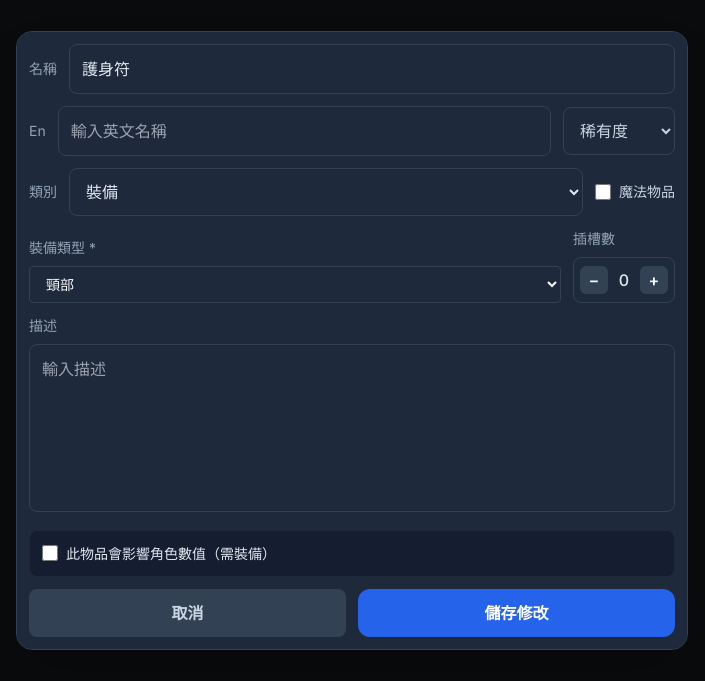
CharacterItemEditModal - applies_unequipped 文案與子選項 › 已有 applies_unequipped=true 的物品開啟時，子選項預設為勾選狀態
The image size is (705, 681).
Click the text "此物品會影響角色數值（需裝備）".
click(159, 553)  # box x1=42 y1=544 x2=276 y2=562
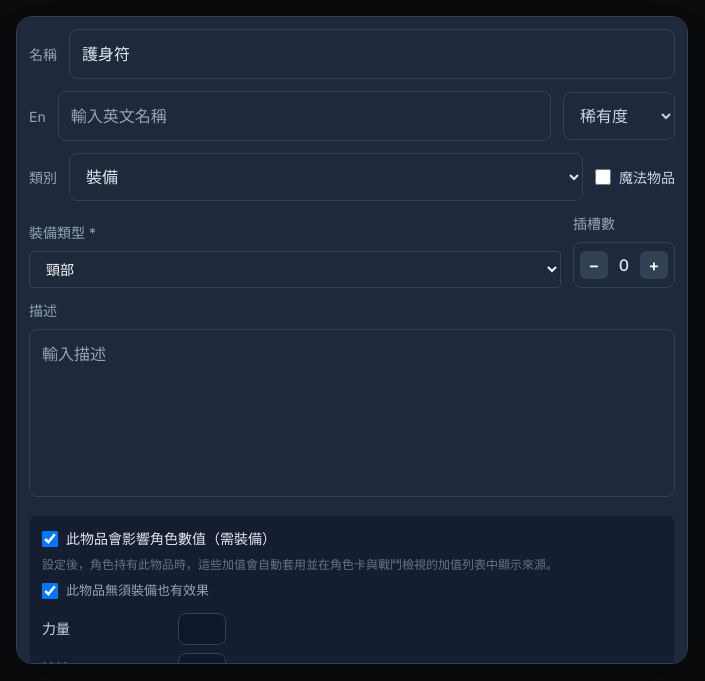
Check: the checkbox labelled "此物品無須裝備也有效果" is checked, box x1=42 y1=583 x2=58 y2=599
